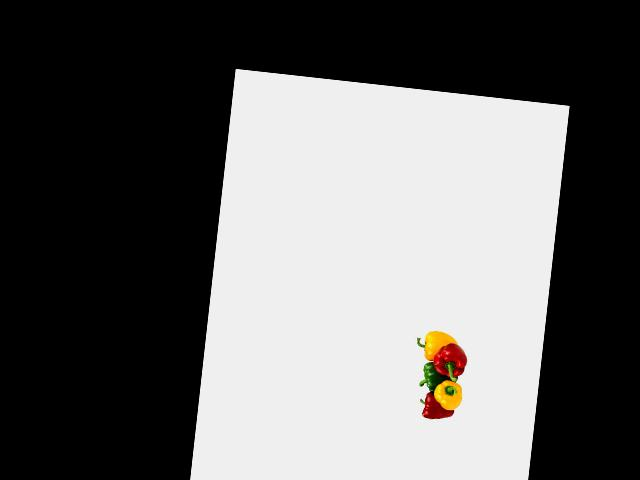bell_pepper: (416, 390, 451, 422)
